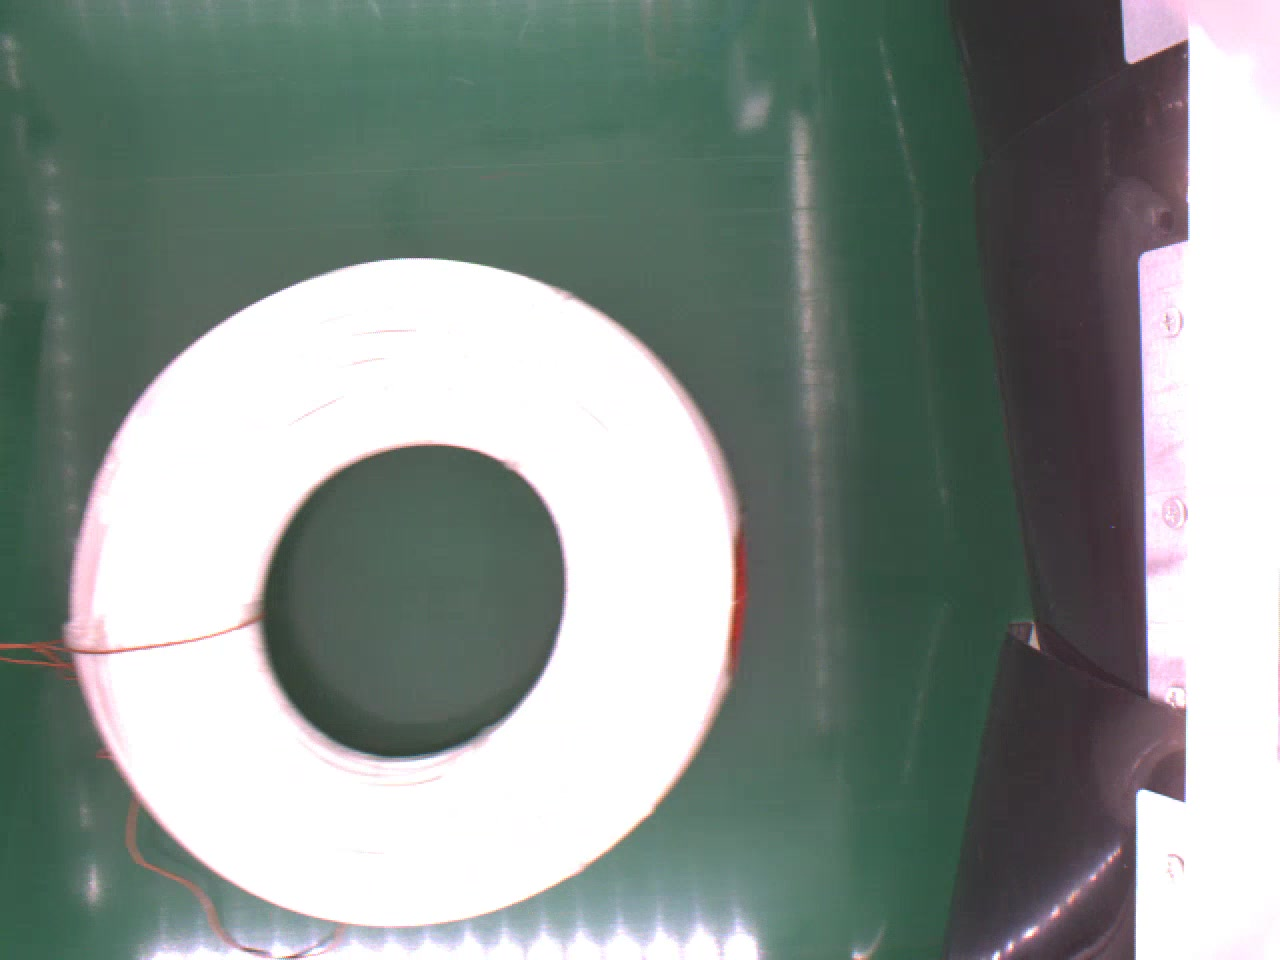white: (61, 248, 737, 931)
